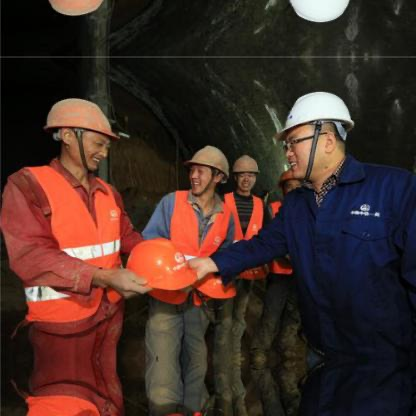Safety Helmet: (274, 87, 363, 187), (39, 89, 120, 183), (182, 135, 233, 205), (229, 146, 264, 196)
